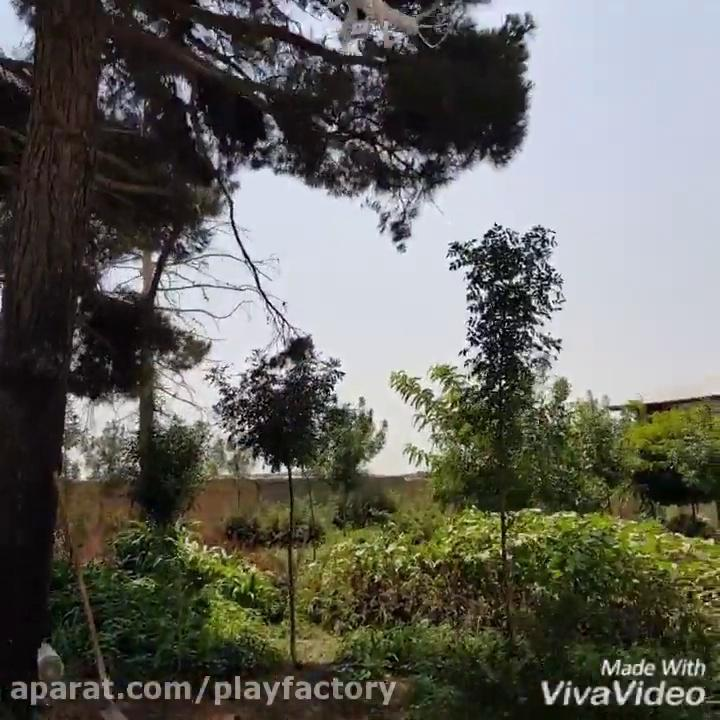drone: (323, 0, 450, 51)
